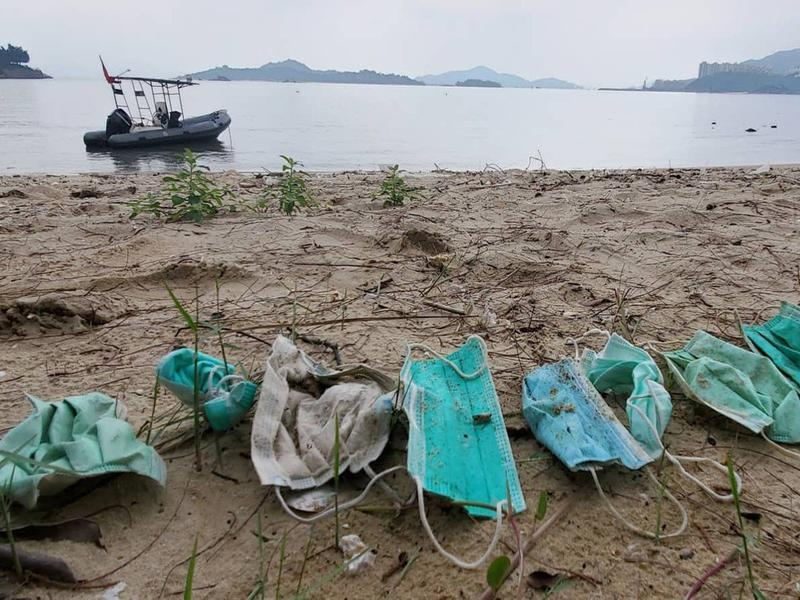mask: (524, 338, 687, 541), (565, 325, 753, 501), (401, 331, 529, 573), (249, 331, 400, 520), (652, 314, 800, 449), (1, 390, 172, 504), (155, 342, 258, 430)
